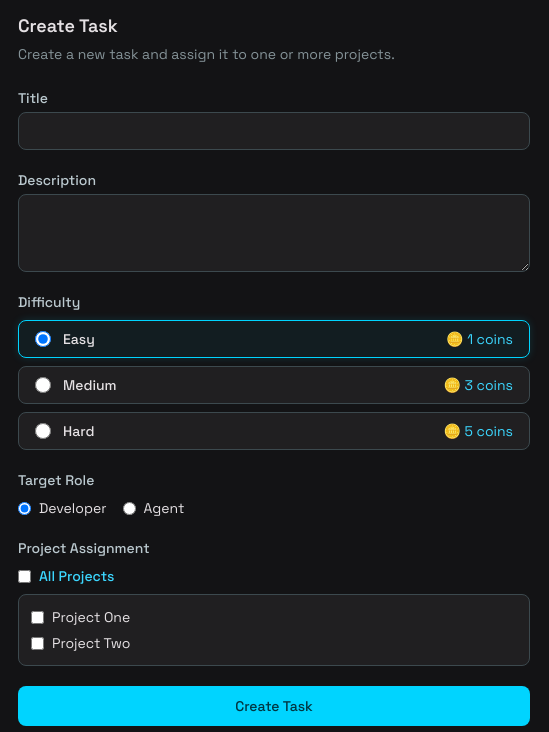
Test case: AdminTaskForm › preserves form data on submission failure
Check: the text "Project One" is shown, box [31,608,130,626]
Note: Fill in form fields
Type "My Important Task" into the field labelled "Title". click: point(274, 131)
box: [18,112,530,150]
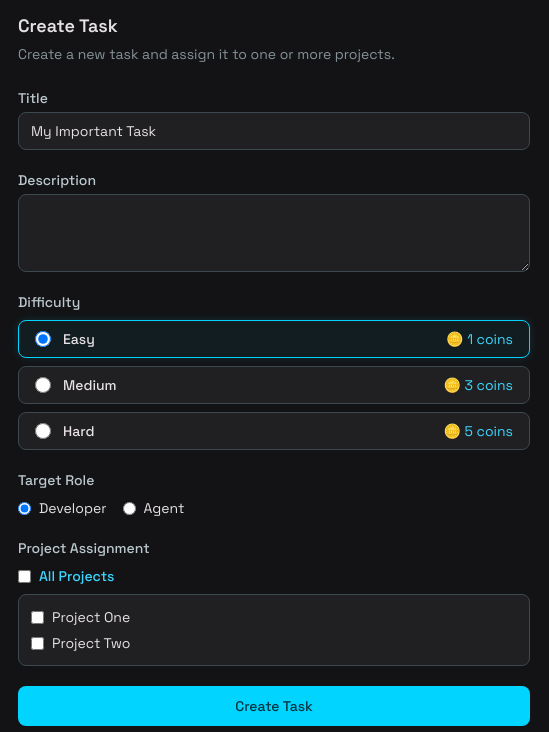
Type "Important description" into the text box labelled "Description". click: point(274, 233)
box: [18,194,530,272]
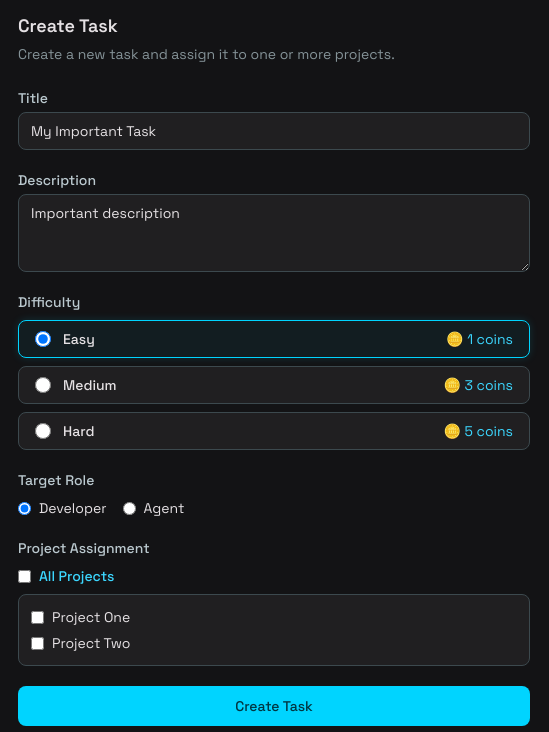
Note: Select a project
Click the checkbox labelled "Project Two". click: point(38, 643)
box: [31,636,44,650]
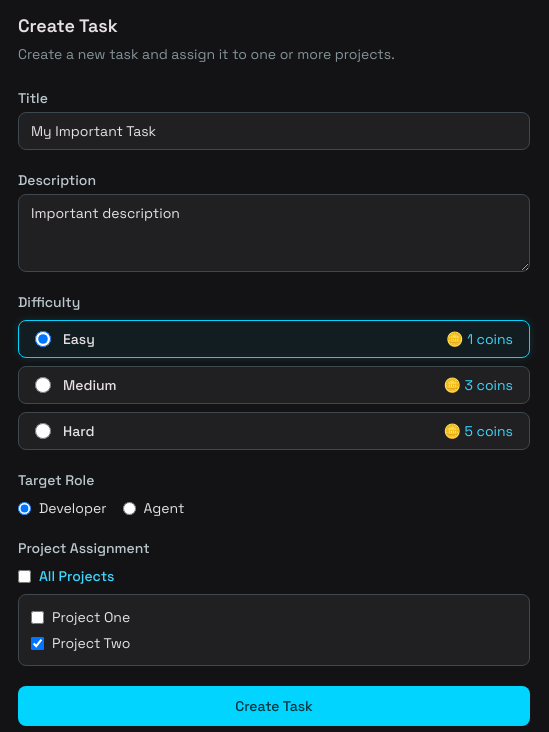
Note: Submit the form
Click the button "Create Task". click: point(274, 706)
box: [18,686,530,726]
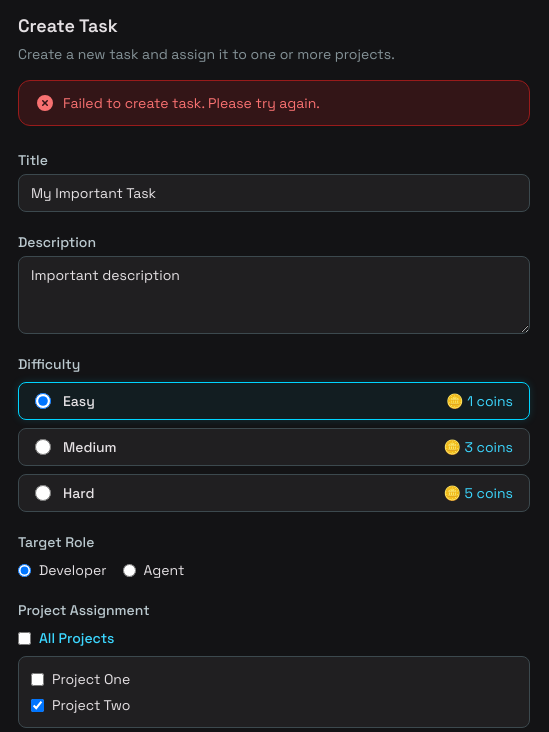
Check: the text "Failed to create task. Please try again." is shown, box [63,93,320,113]
